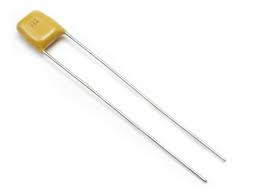ceramic capacitor: (12, 4, 82, 65)
